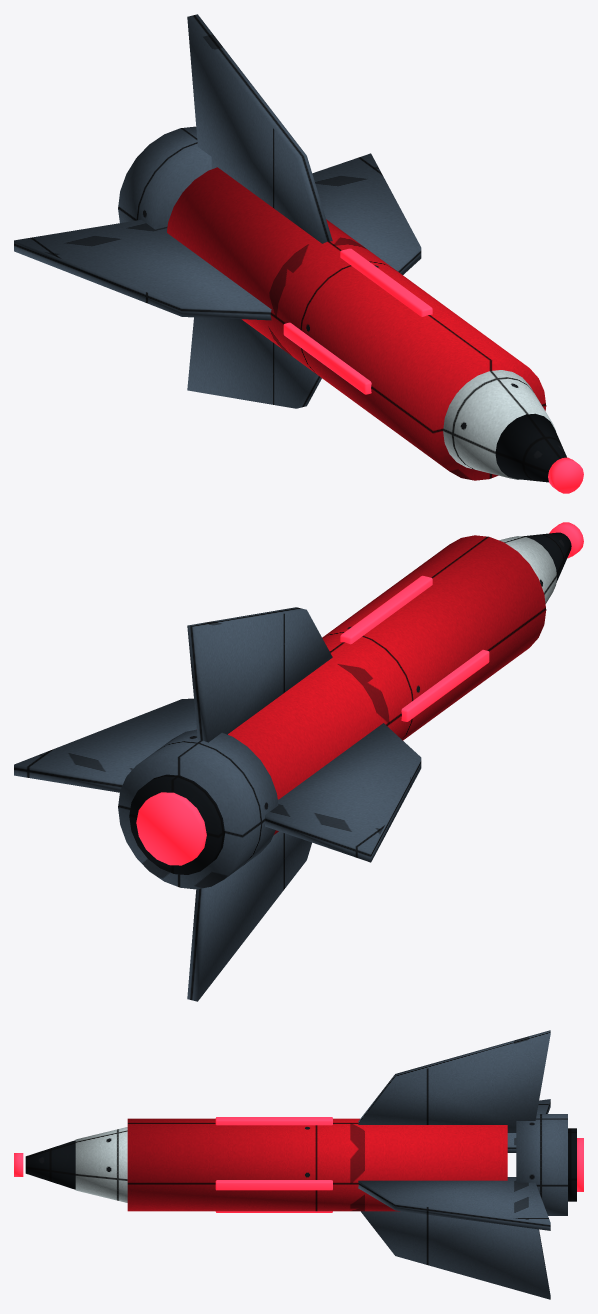
The model's file is missile.glb.
3 renders of one model, top to bottom at view 1: azimuth 30°, elevation 25°; view 2: azimuth 150°, elevation 25°; view 3: azimuth 270°, elevation 25°, orthographic. The views are drawn at different scales.
Visible parts, largest first — view 1: missile Titanium, missile missile-enamel, missile Ceramic, missile missile-emitter, missile Graphite; view 2: missile Titanium, missile missile-enamel, missile missile-emitter, missile Graphite, missile Ceramic; view 3: missile Titanium, missile missile-enamel, missile Ceramic, missile missile-emitter, missile Graphite.
Boxes of the visible parts, left/top/right/bottom form: missile Titanium: left=14, top=14, right=421, bottom=408; missile missile-enamel: left=167, top=167, right=546, bottom=480; missile Ceramic: left=443, top=370, right=556, bottom=479; missile missile-emitter: left=283, top=248, right=583, bottom=493; missile Graphite: left=495, top=413, right=566, bottom=482; missile Titanium: left=14, top=607, right=421, bottom=1001; missile missile-enamel: left=228, top=535, right=546, bottom=834; missile missile-emitter: left=136, top=522, right=583, bottom=865; missile Graphite: left=129, top=532, right=571, bottom=874; missile Ceramic: left=499, top=536, right=556, bottom=603; missile Titanium: left=358, top=1030, right=567, bottom=1299; missile missile-enamel: left=127, top=1118, right=507, bottom=1211; missile Ceramic: left=75, top=1127, right=127, bottom=1202; missile missile-emitter: left=14, top=1117, right=583, bottom=1212; missile Graphite: left=25, top=1128, right=576, bottom=1201.
Size of the model in its own units: 1.7 by 1.7 by 3.3.
Materials: 5 (4 with a texture image).
